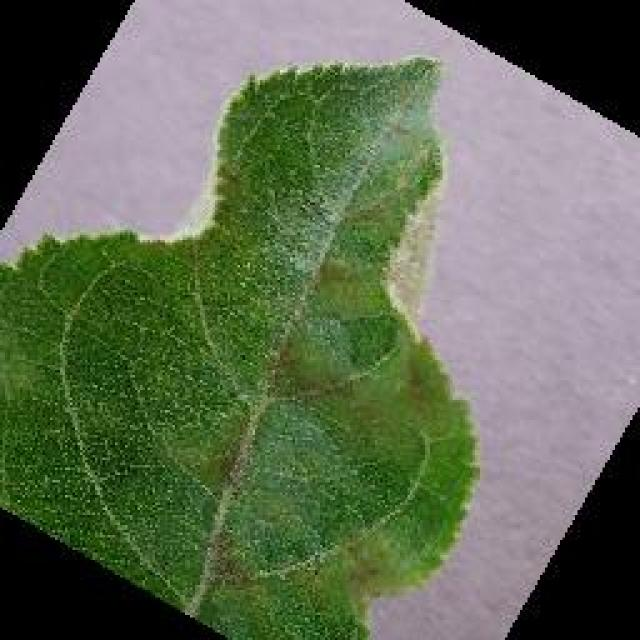apple scab disease: (0, 50, 482, 637)
